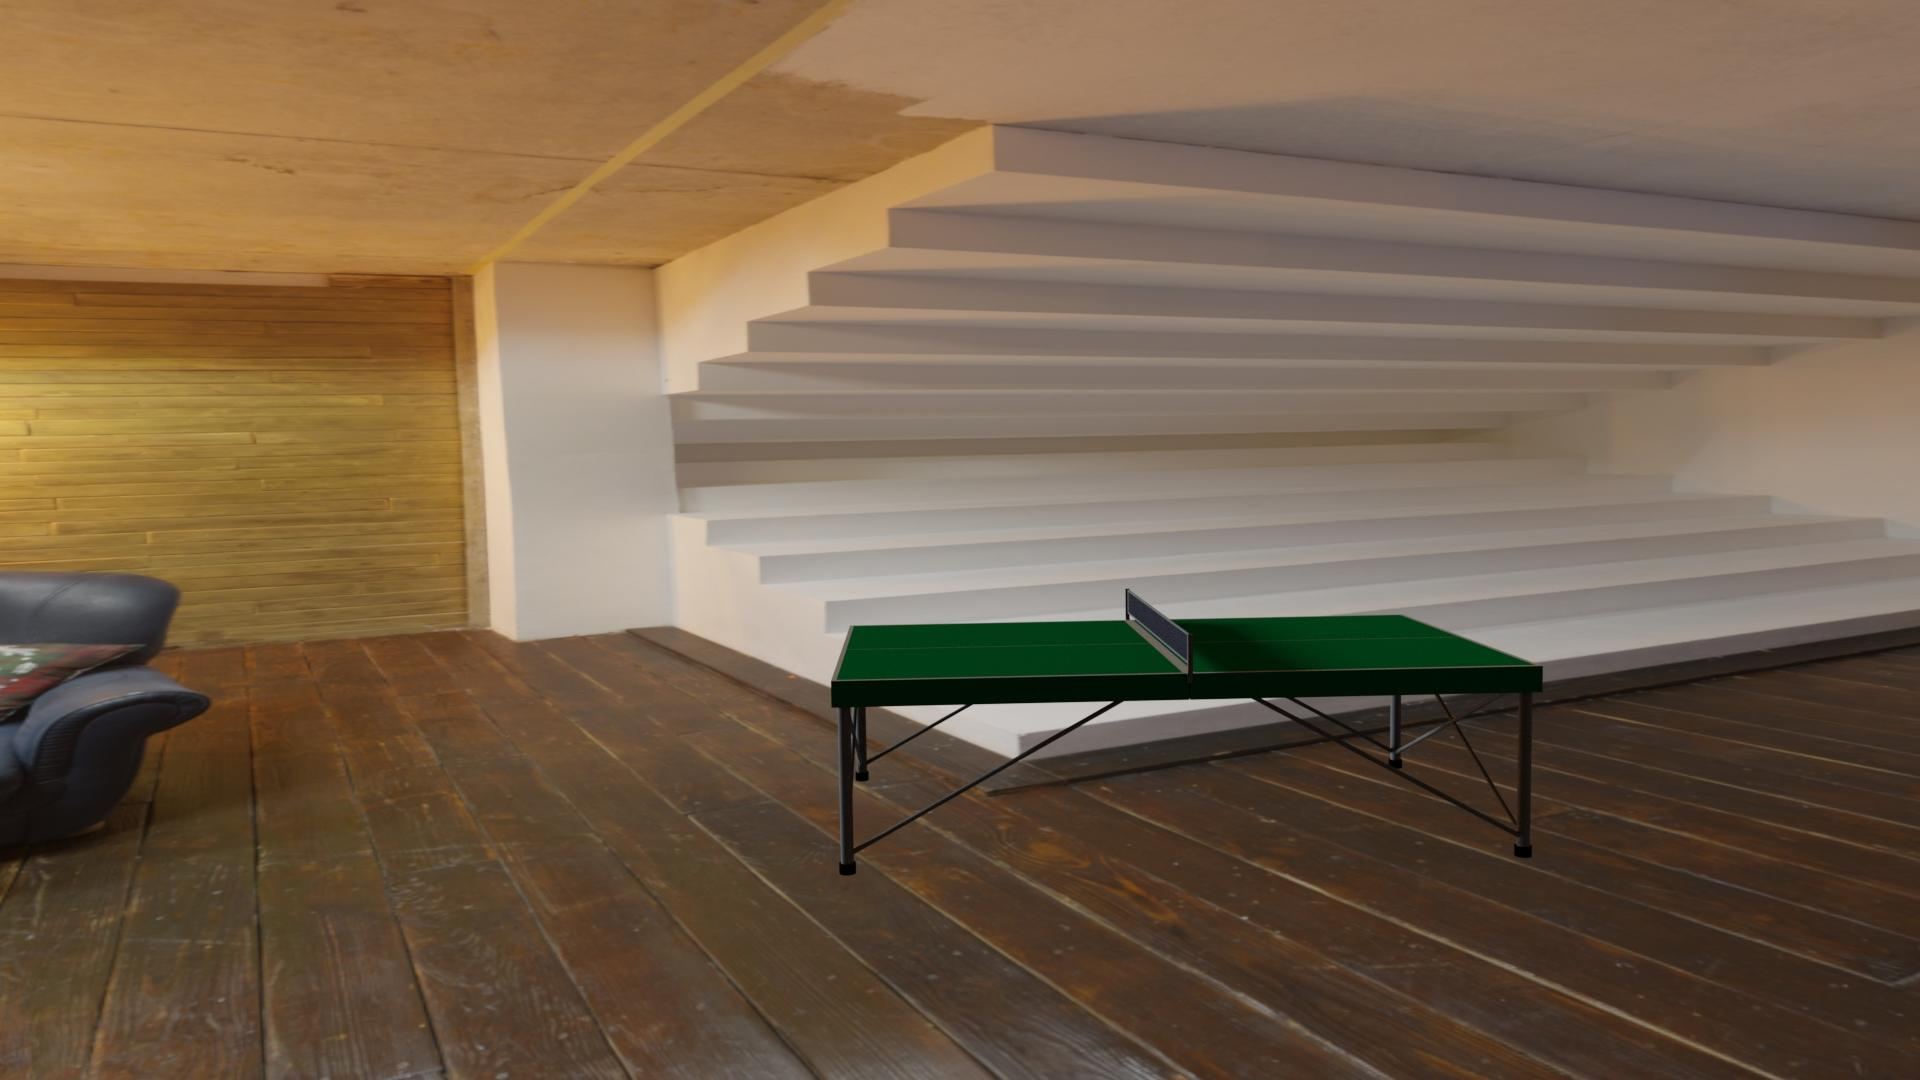table: (836, 615, 1535, 680)
